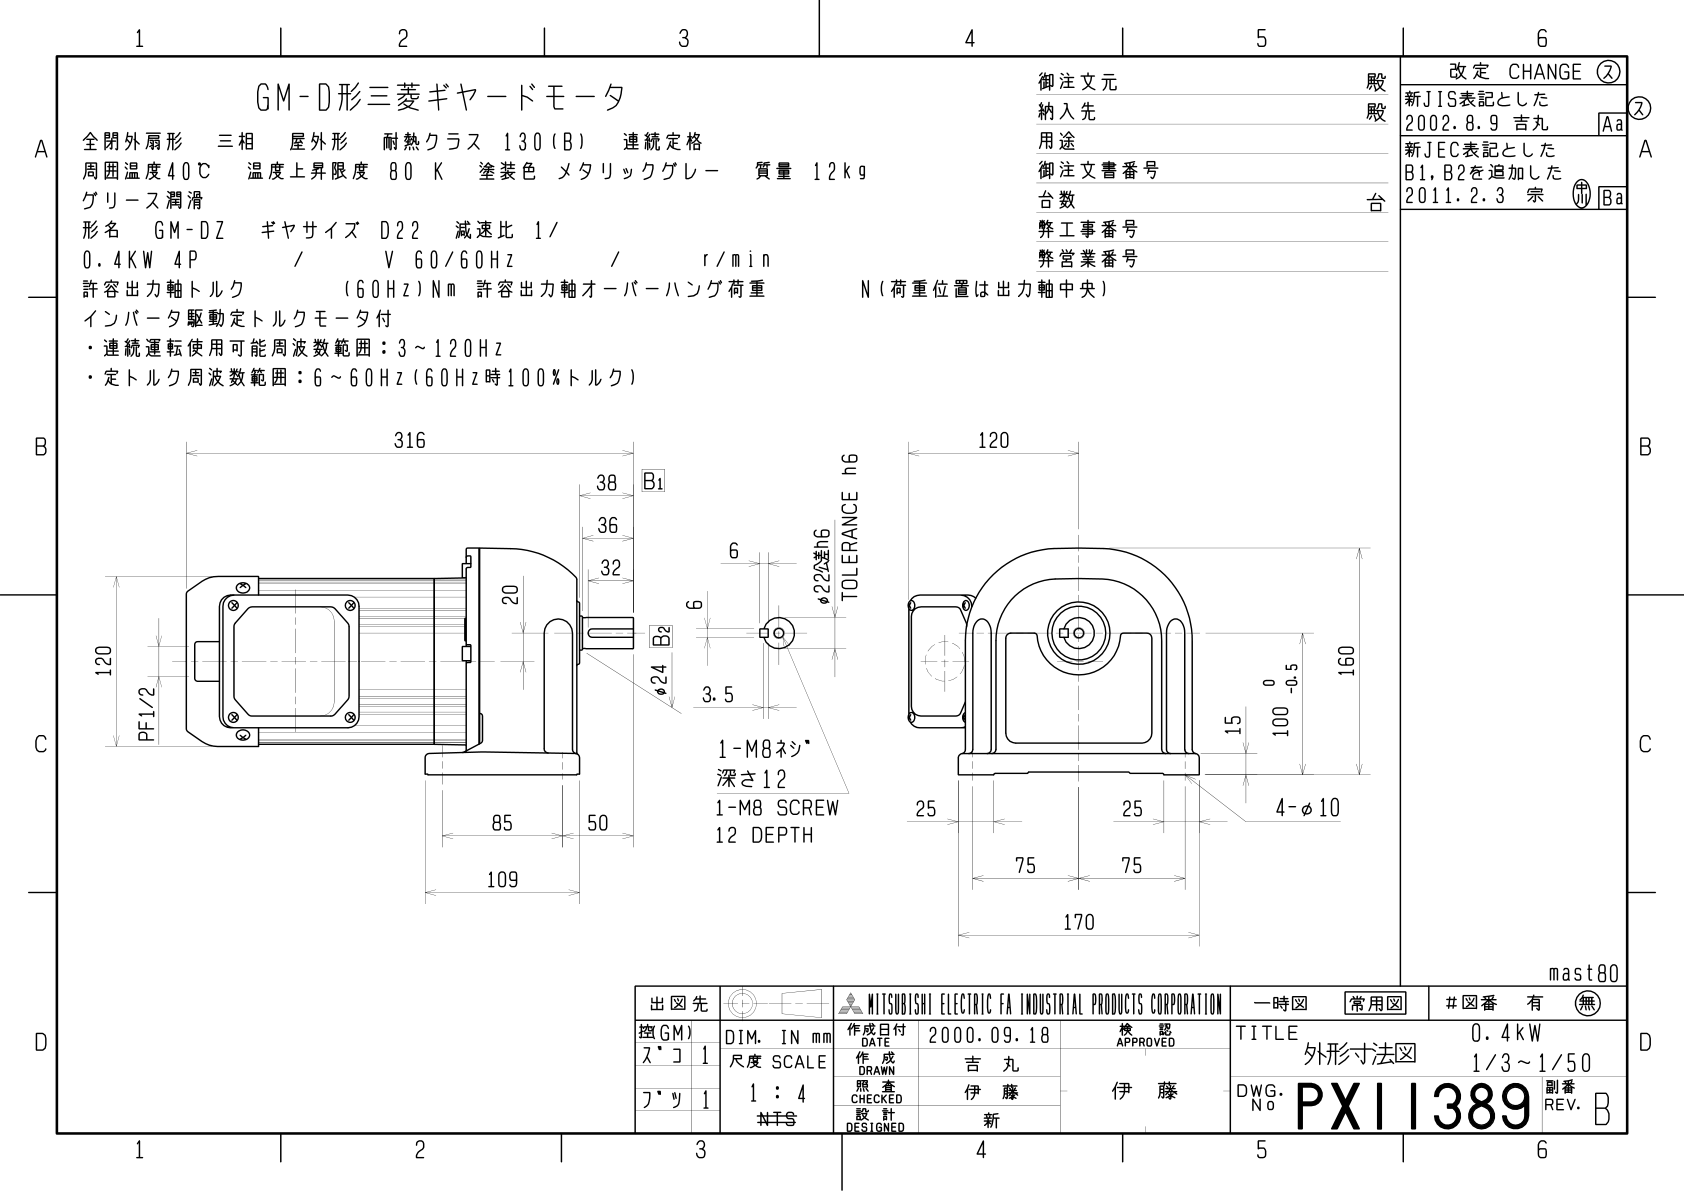GM_D_インバータ屋外_三相_脚: (8, 12, 1684, 1191)
